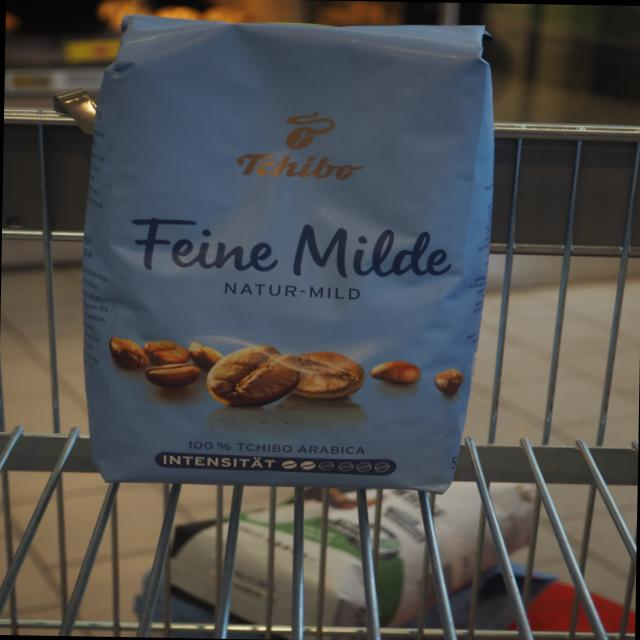FM Bohne: (68, 8, 504, 498)
